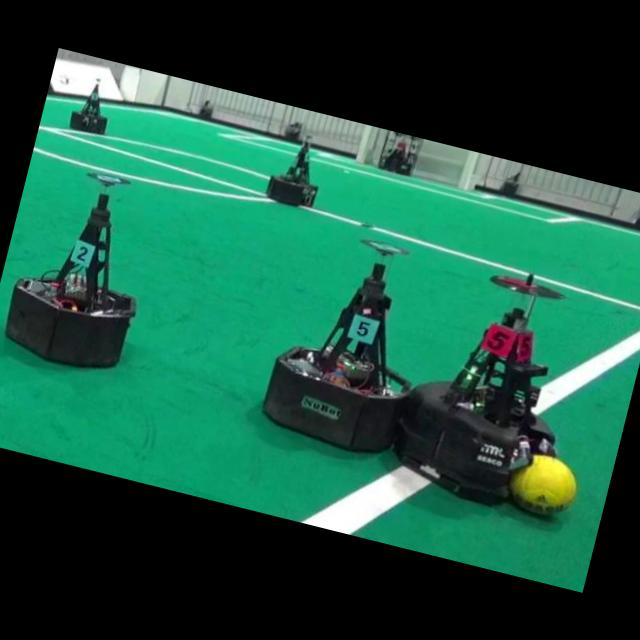ball: (509, 455, 576, 514)
goal: (457, 150, 478, 189), (355, 124, 373, 163)
robot: (394, 274, 562, 504), (262, 239, 410, 452), (5, 174, 135, 367), (265, 140, 317, 206), (378, 130, 422, 174), (69, 83, 106, 133)
